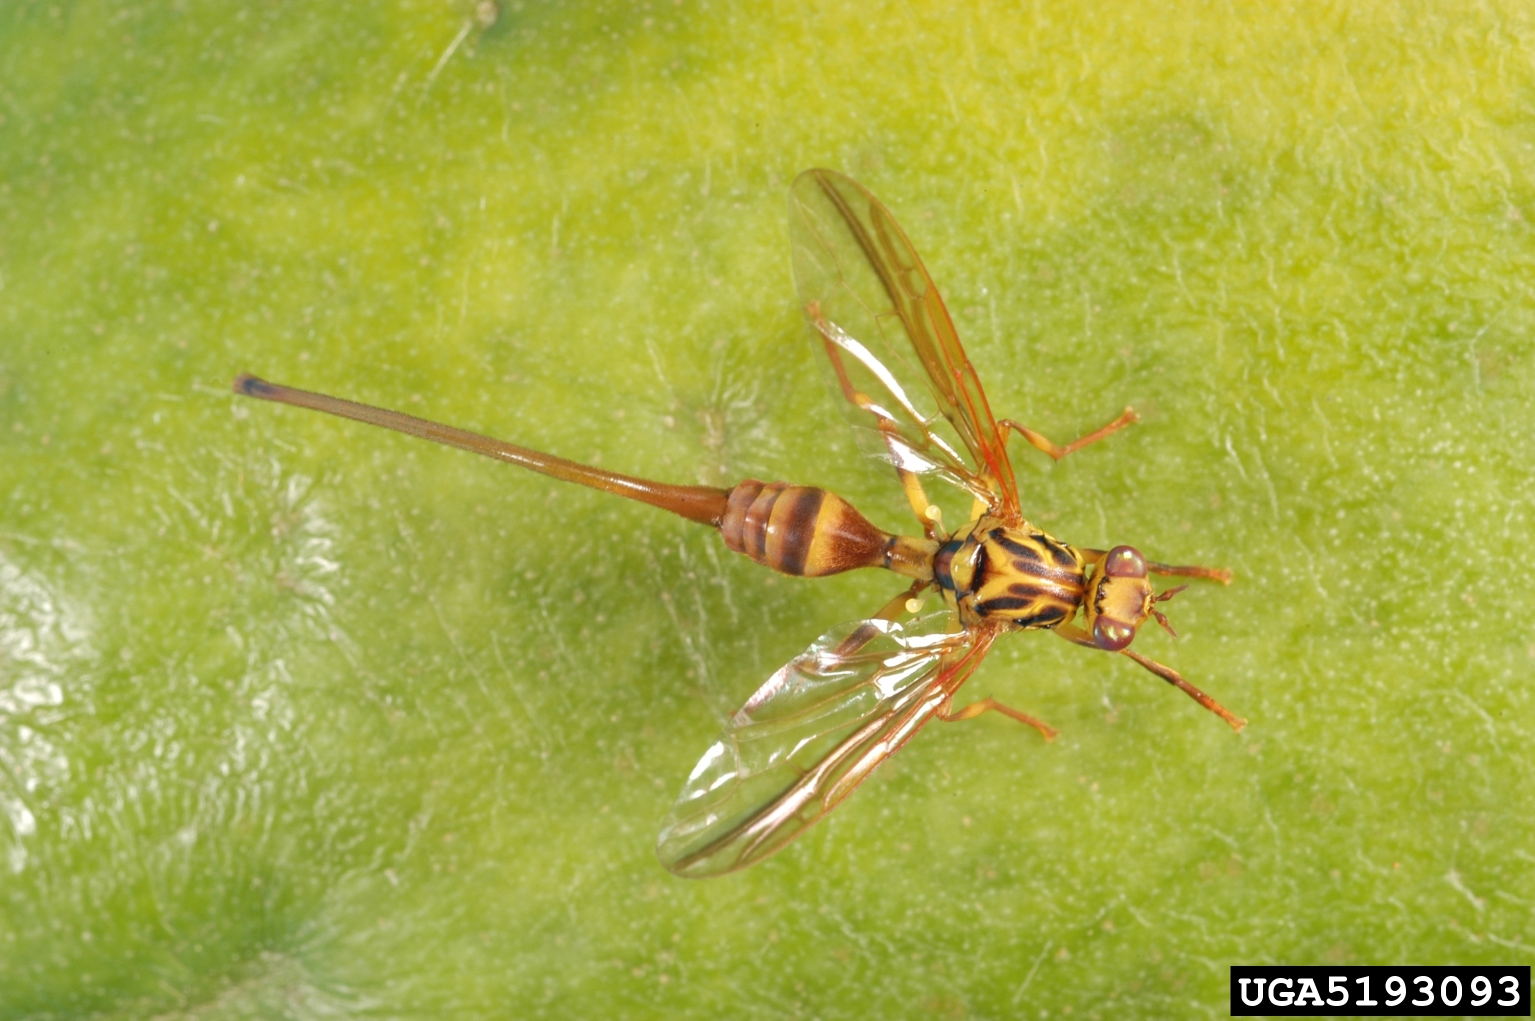Fruit fly: (201, 186, 1311, 886)
